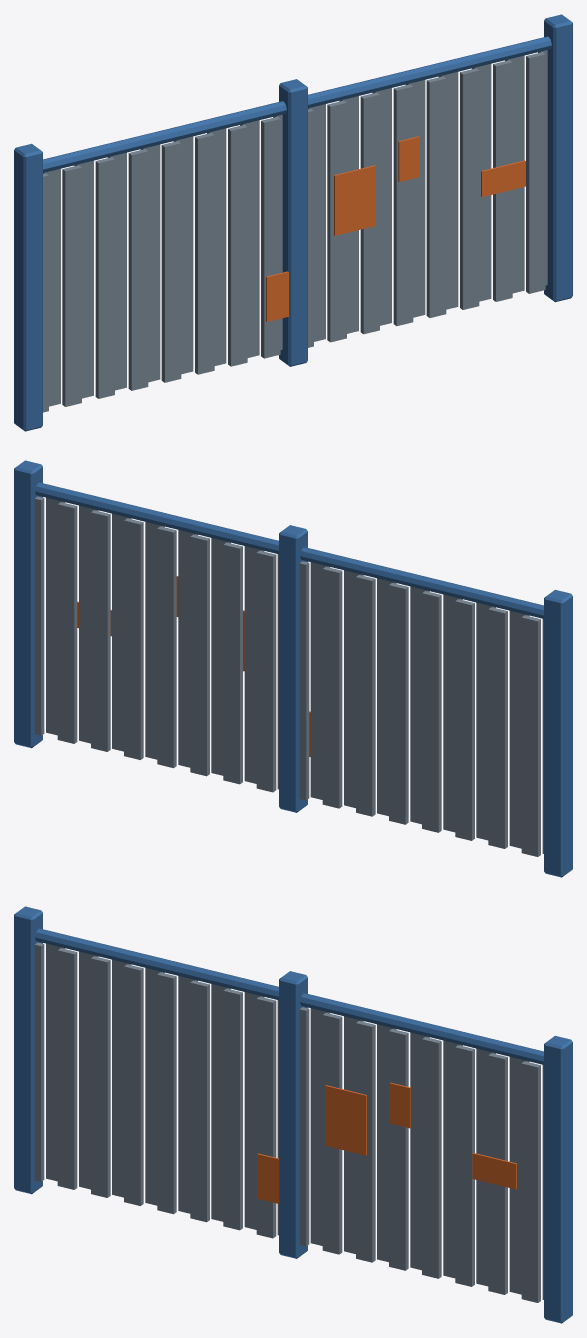
The model's file is prop_fence.fbx.
3 renders of one model, top to bottom at view 1: azimuth 30°, elevation 25°; view 2: azimuth 150°, elevation 25°; view 3: azimuth 330°, elevation 25°, orthographic.
Parts seen in each view (by area): view 1: prop_fence; view 2: prop_fence; view 3: prop_fence.
Part boxes in pixels (<box>): prop_fence: <box>14,14,572,431</box>; prop_fence: <box>14,460,572,877</box>; prop_fence: <box>14,906,572,1323</box>.
Bounding box in the file's own units: 16.6 × 8 × 0.6.
